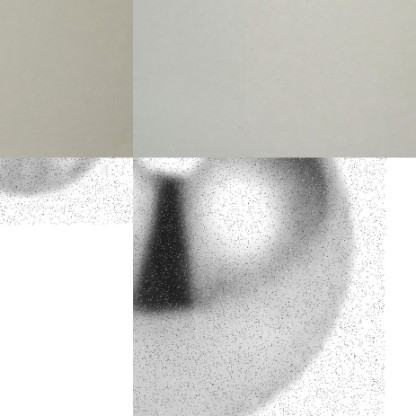ironball: (132, 157, 386, 415), (0, 157, 132, 226)
